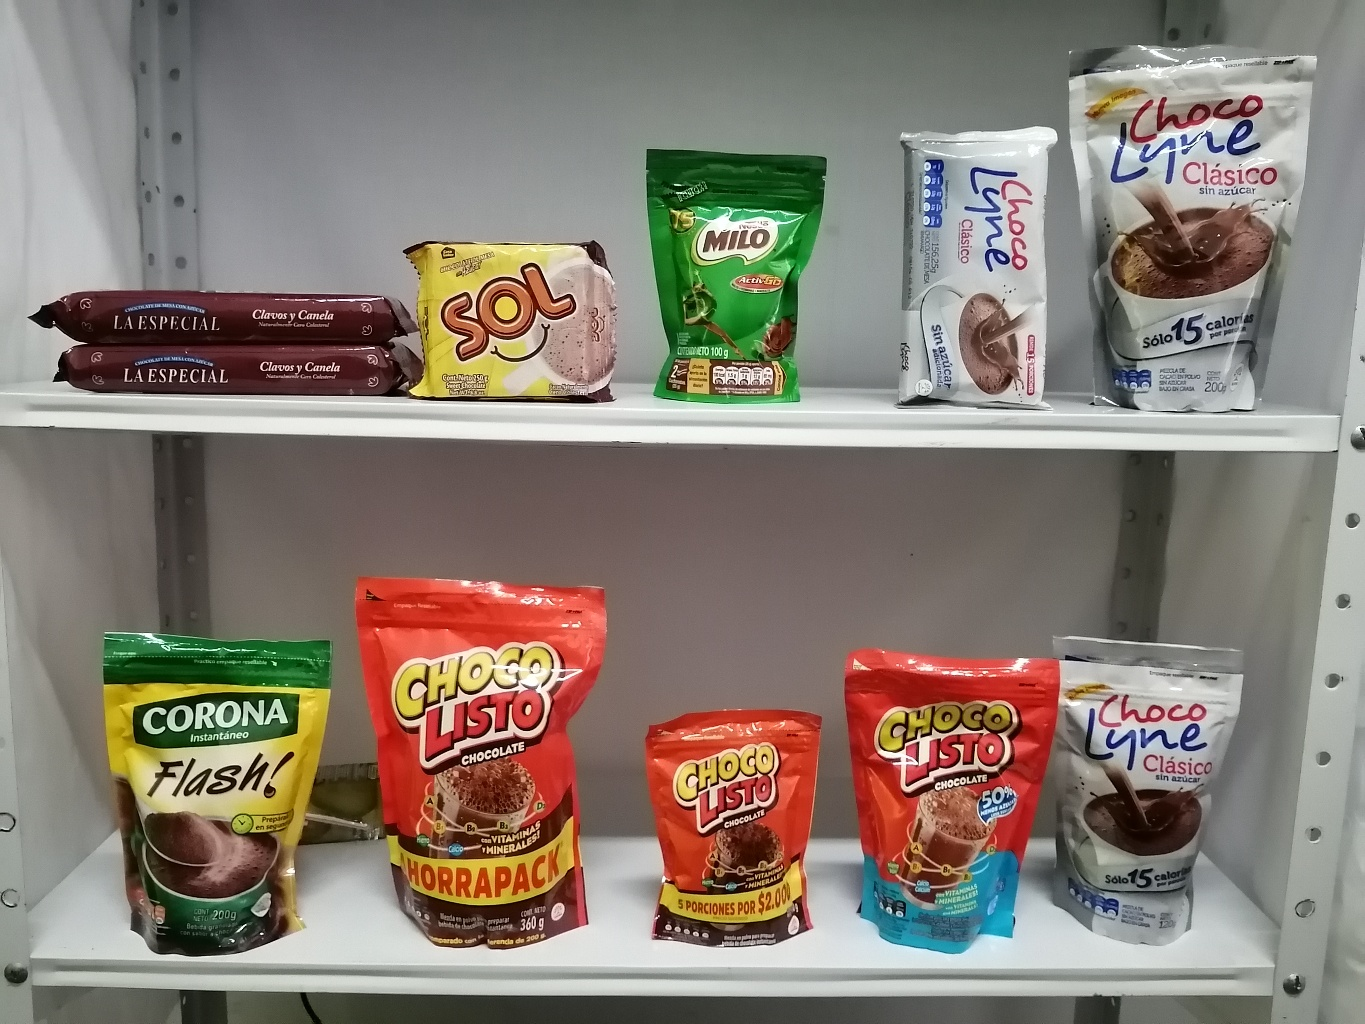COL0170103DYP36000: (335, 559, 626, 955)
COL0170104DYP20000: (830, 630, 1065, 971)
COL0170203DYP10000: (635, 132, 834, 406)
